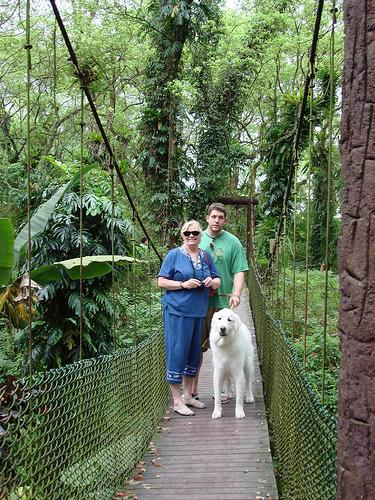Great_Pyrenees: (208, 307, 256, 417)
